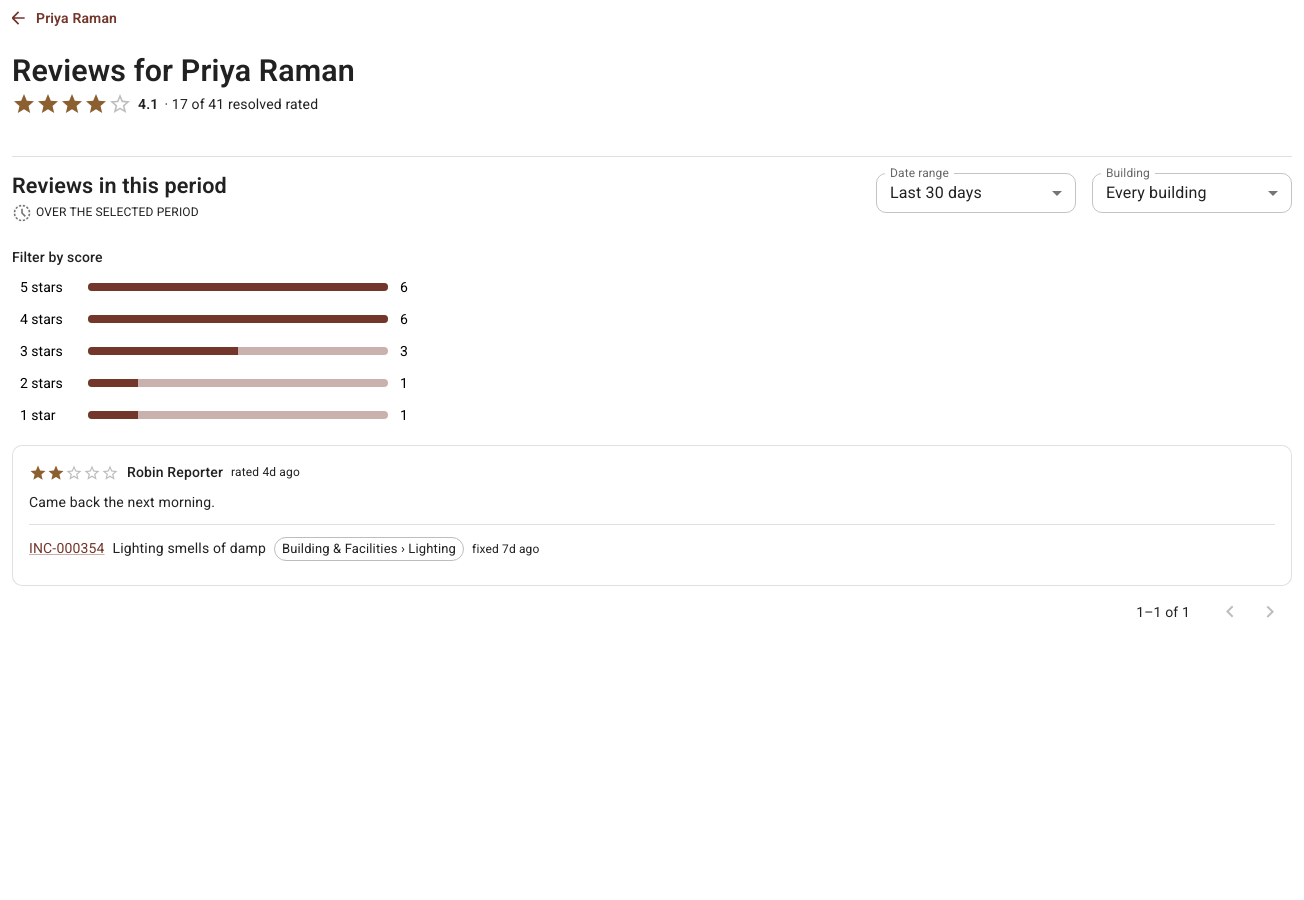
the score filter › puts the score in the address bar, so the view can be sent to somebody
The width and height of the screenshot is (1304, 900).
Expected: the heading "Reviews for Priya Raman" is shown, [12,52,355,88]
Expected: the text "Came back the next morning." is shown, [29,494,215,510]
Click the button "2 stars 1" at (222, 383), box [12,369,432,397]
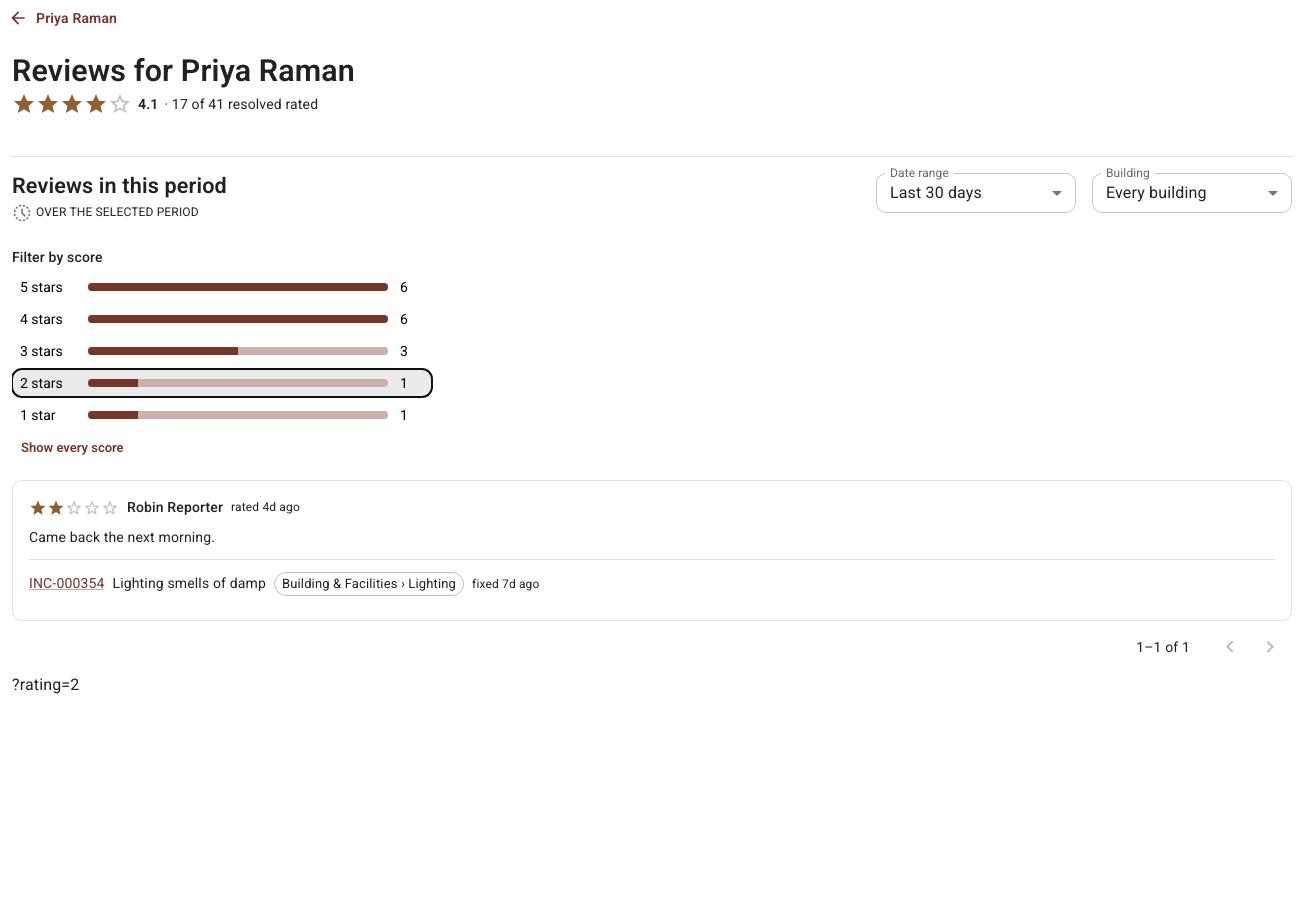
Expected: the text with test id "search" shows "rating=2", [12,675,80,694]
